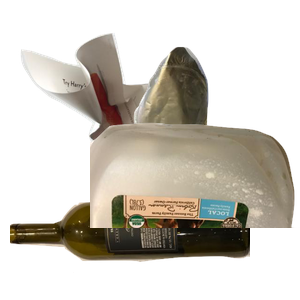glass: (10, 189, 250, 300)
paper: (18, 30, 213, 210)
plastic: (90, 120, 300, 300)
trash: (131, 44, 300, 189)
